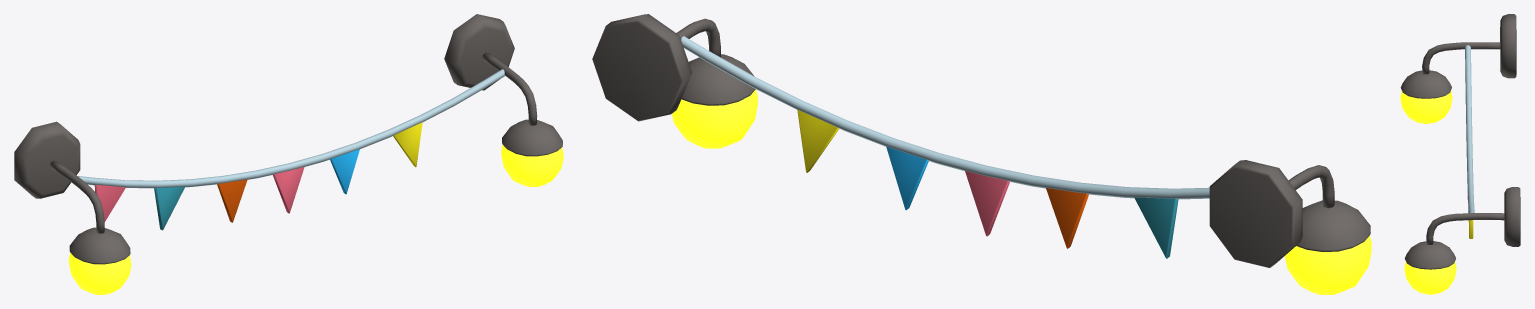
Rendered from Flag.fbx.
3 renders of one model, left to right at view 1: azimuth 30°, elevation 25°; view 2: azimuth 150°, elevation 25°; view 3: azimuth 270°, elevation 25°, orthographic. The views are drawn at different scales.
Parts seen in each view (by area): view 1: Entrance_Area_Decor; view 2: Entrance_Area_Decor; view 3: Entrance_Area_Decor.
Boxes of the visible parts, left/top/right/bottom form: Entrance_Area_Decor: left=14, top=14, right=563, bottom=294; Entrance_Area_Decor: left=592, top=14, right=1371, bottom=294; Entrance_Area_Decor: left=1400, top=14, right=1520, bottom=294.
Size of the model in its own units: 383 by 95.6 by 99.63.
